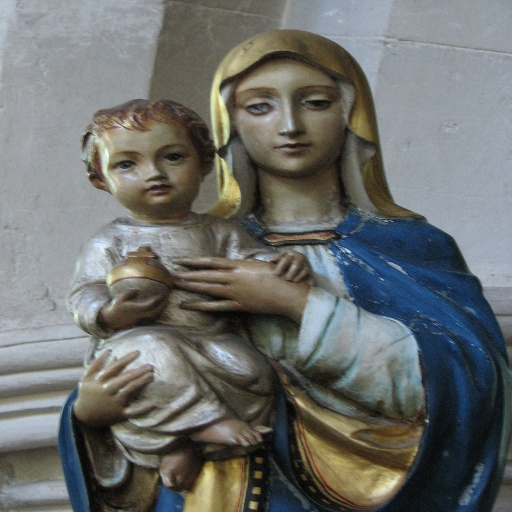hand: (165, 248, 335, 324), (74, 347, 162, 431), (99, 288, 167, 329), (264, 248, 318, 288)
